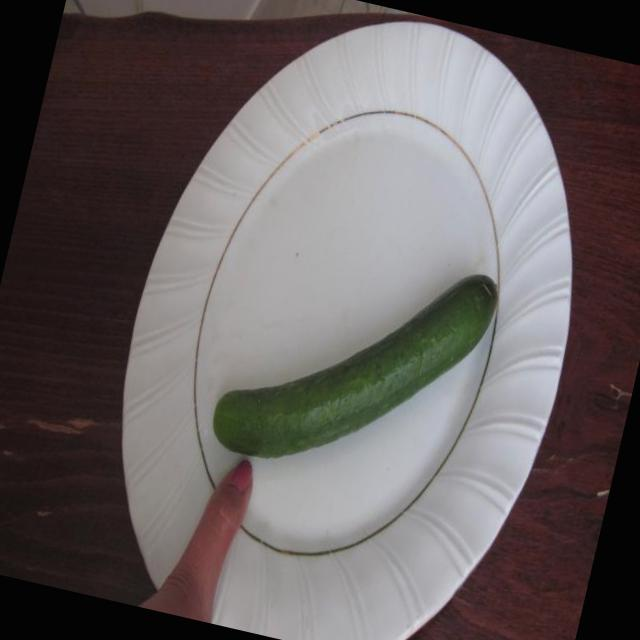Cucumber: (200, 210, 515, 513)
Finger: (172, 445, 265, 585)
